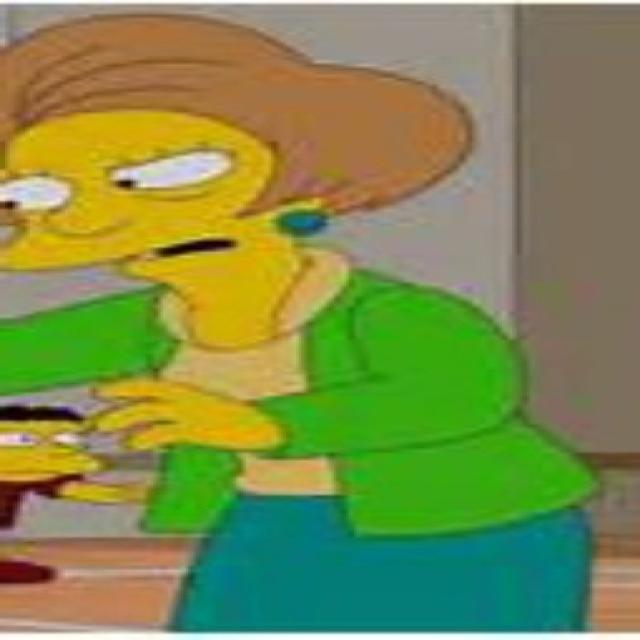Edna Krappel: (1, 9, 481, 342)
